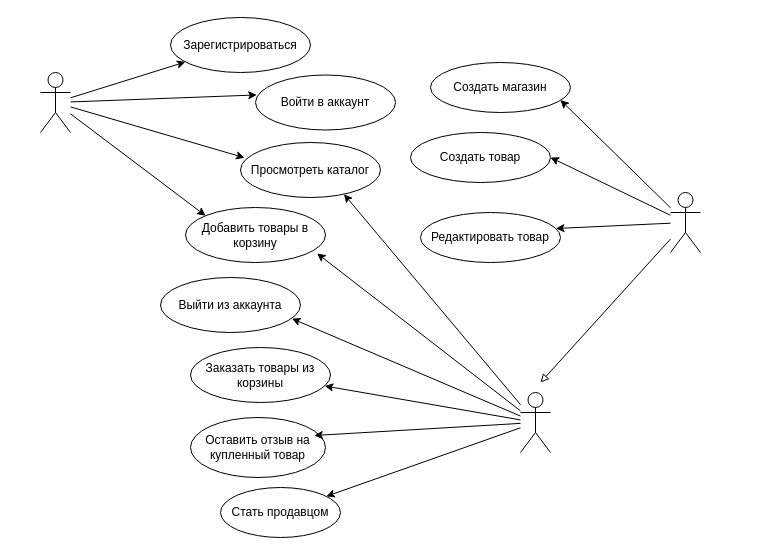
Some shapes in this 761 by 555 pixel diagram are drawn without their labels. Each missing label, with the centre of its shape:
"Анонимный пользователь" belongs at point (55, 102).
"Зарегистрированный партнёр (продавец)" belongs at point (685, 222).
"Зарегистрированный пользователь" belongs at point (535, 422).
